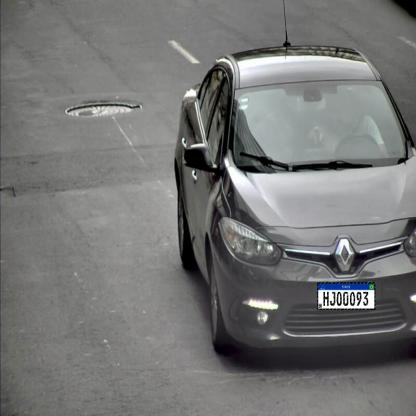PlacaM: (318, 282, 376, 310)
